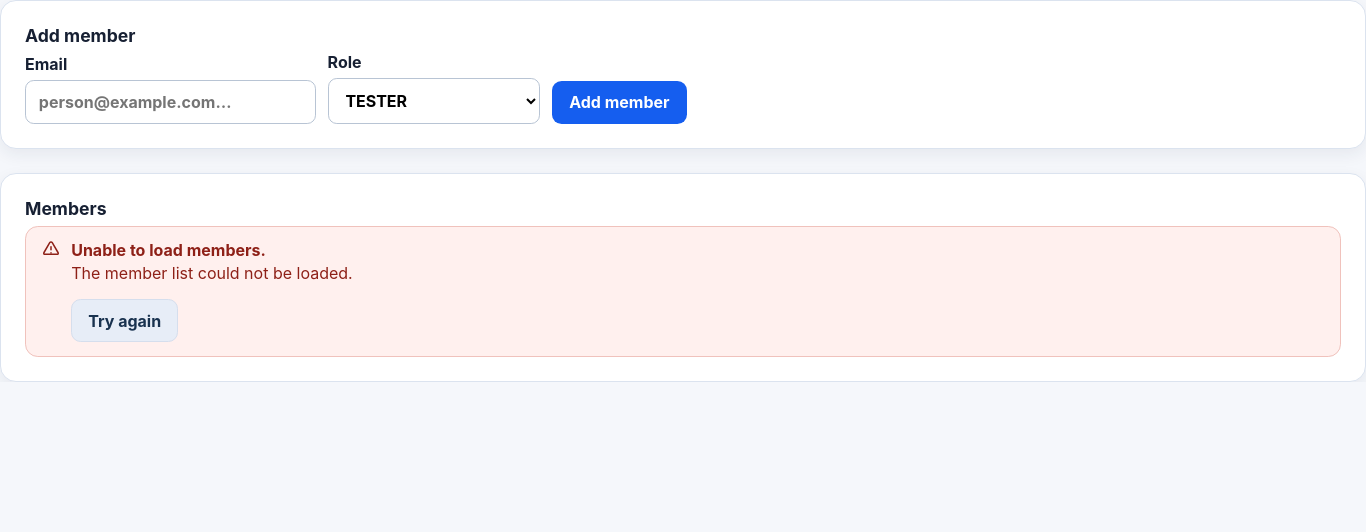
it: MembersPage › offers a retry when the member list request fails
The image size is (1366, 532).
expect the message shows "Unable to load members.": met, box [71,240,266,260]
Click the button "Try again": (125, 321) [71,299,178,342]
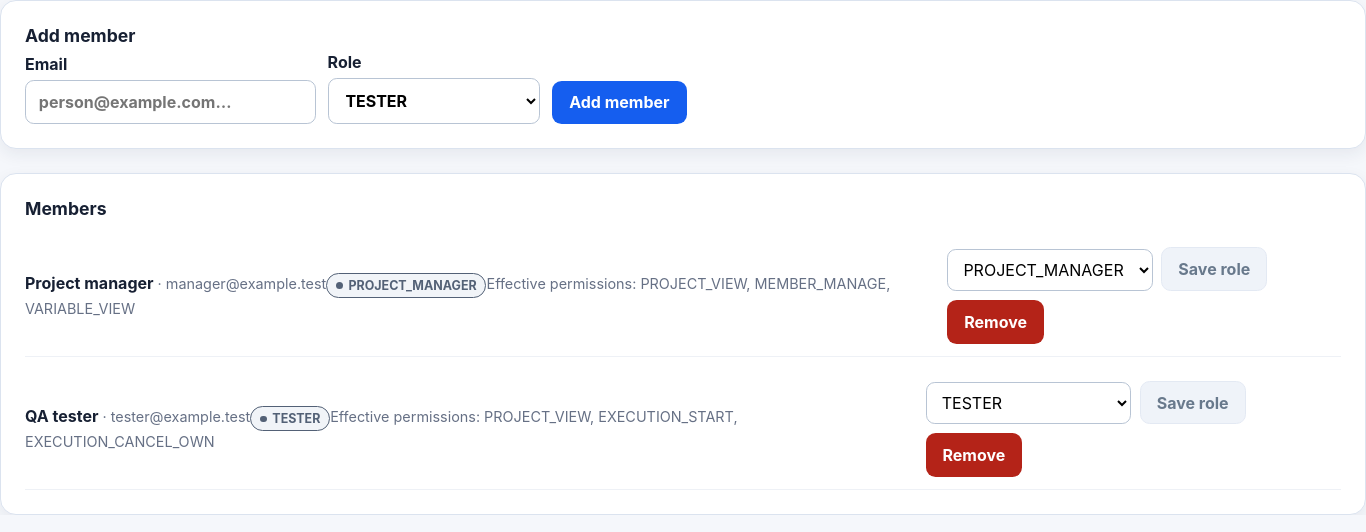
expect the text "QA tester" is shown: met, box [25,406,98,426]
